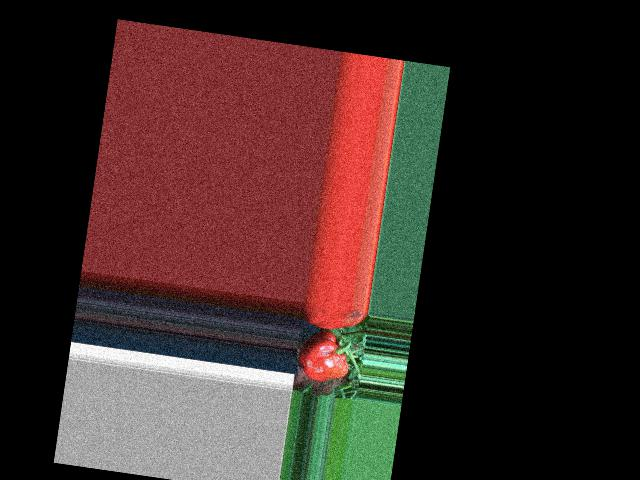bell_pepper: (293, 327, 357, 383)
